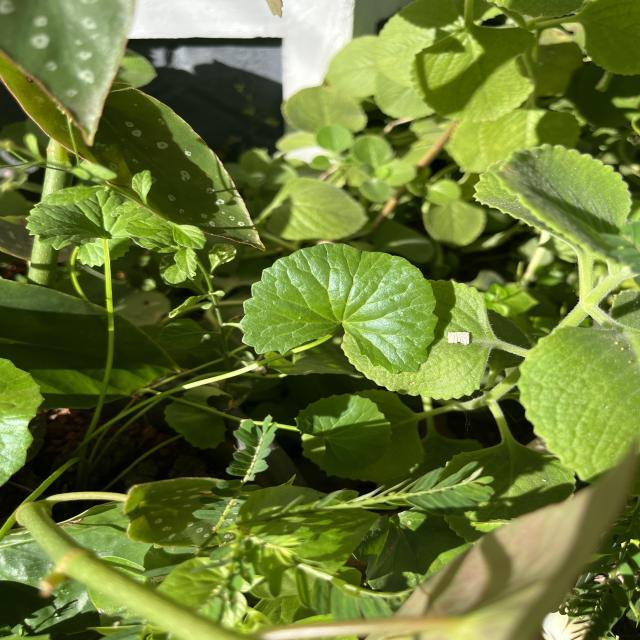Centella asiatica: (240, 242, 441, 376)
